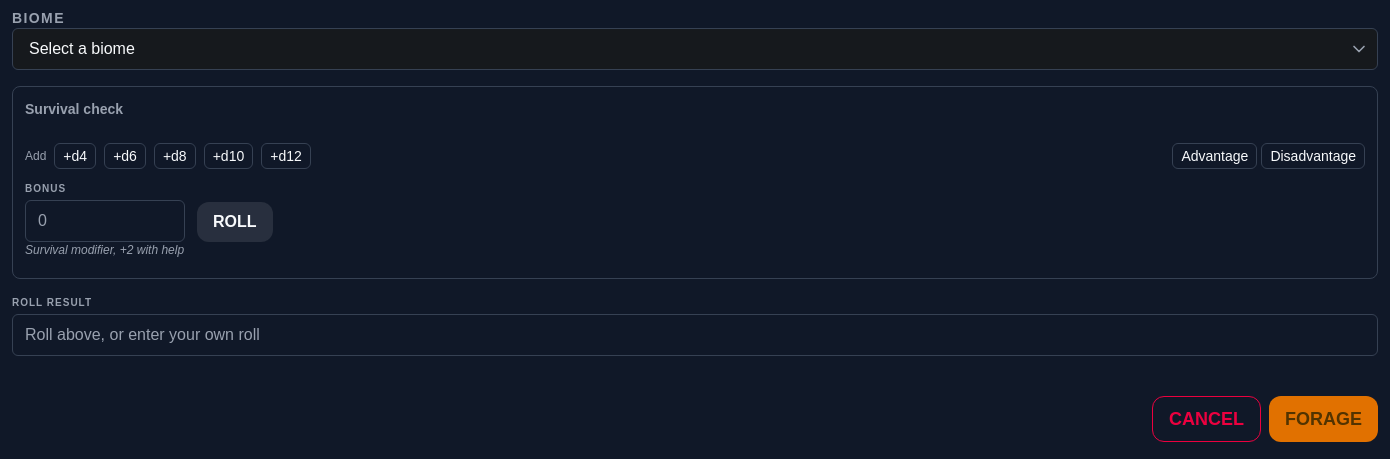
Scenario: components/modals/go-foraging-modal/forage-biome › should ask for a roll result before foraging
Click the button with test id "Dropdown__button": (82, 48) x1=12 y1=28 x2=1378 y2=70
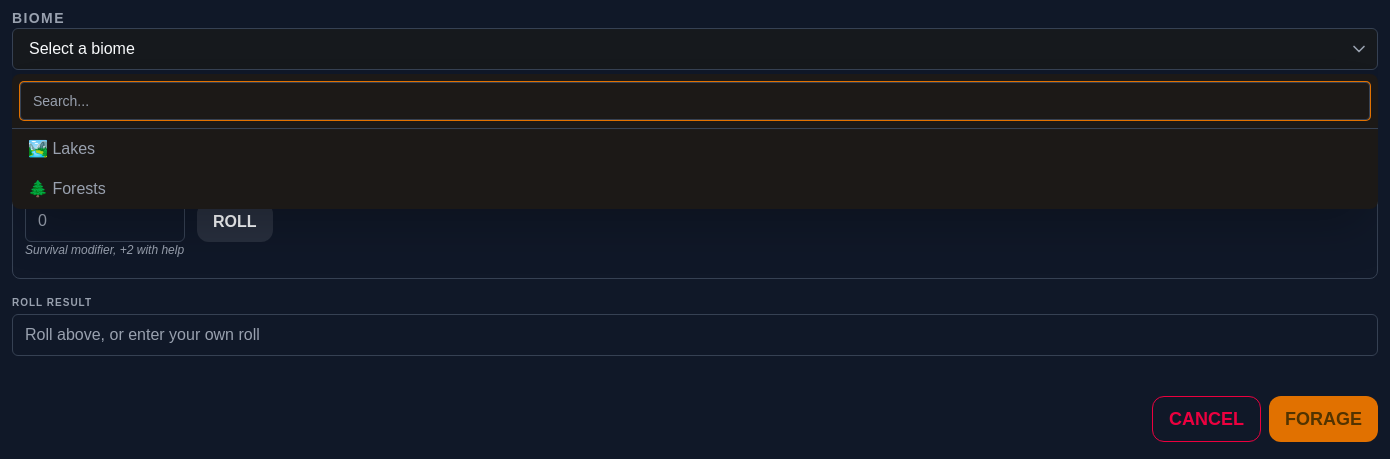
Click the button "🌲 Forests": (67, 188) x1=12 y1=169 x2=1378 y2=209
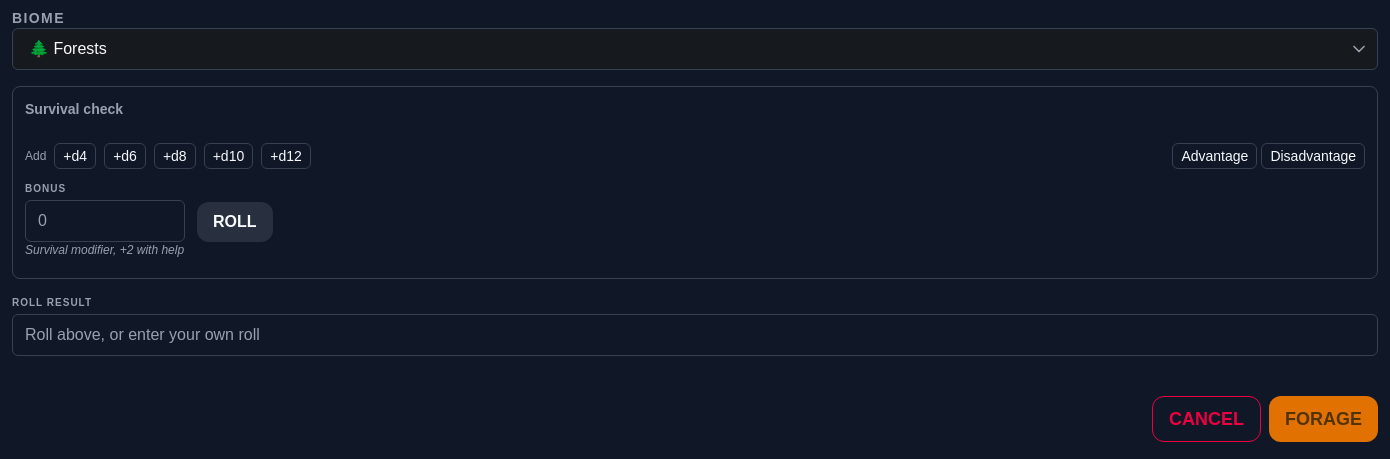
Click the button "Forage": (1324, 419) x1=1269 y1=396 x2=1378 y2=442
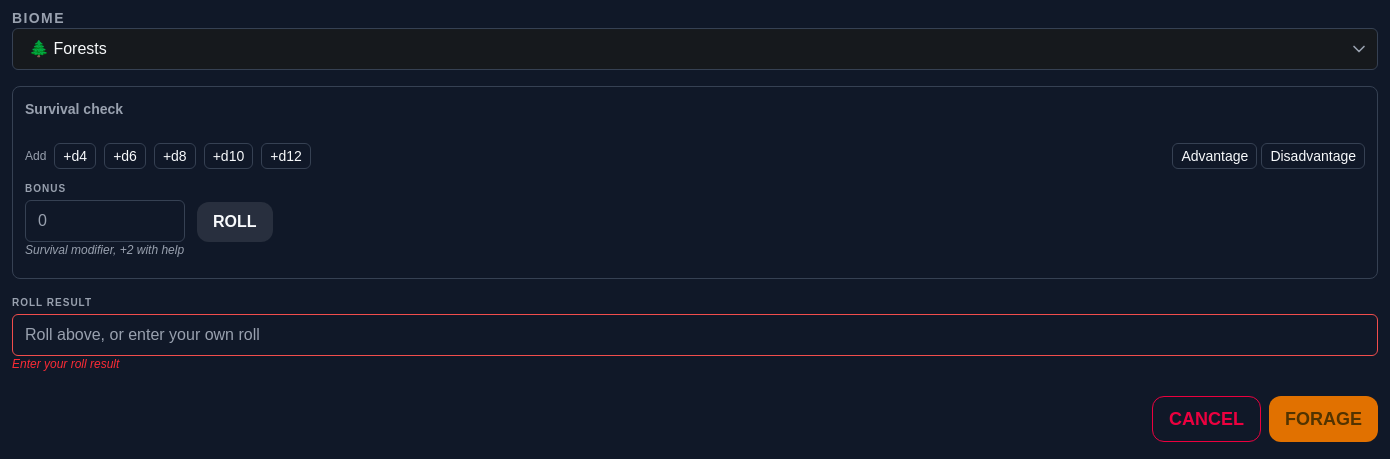
Now the text "Enter your roll result" is shown, box x1=12 y1=357 x2=119 y2=371
